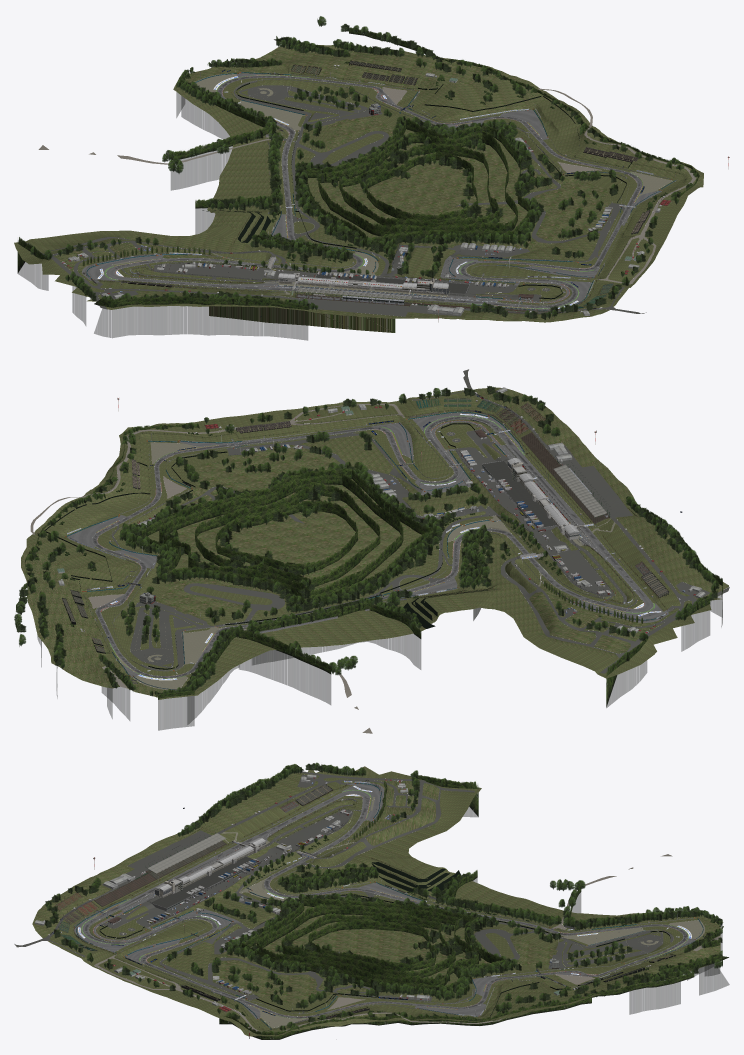
Rendered from autodromo.glb.
3 renders of one model, top to bottom at view 1: azimuth 30°, elevation 25°; view 2: azimuth 150°, elevation 25°; view 3: azimuth 270°, elevation 25°, orthographic. The views are drawn at different scales.
Visible parts, largest first — view 1: Object_71, Object_89, Object_19, Object_88, Object_87, Object_46, Object_13, Object_84, Object_108, Object_32, Object_38, Object_55 (+6 smaller); view 2: Object_71, Object_89, Object_19, Object_88, Object_46, Object_87, Object_13, Object_108, Object_84, Object_96, Object_54, Object_32 (+6 smaller); view 3: Object_71, Object_89, Object_19, Object_88, Object_46, Object_13, Object_87, Object_108, Object_84, Object_36, Object_54, Object_99 (+7 smaller).
Boxes of the visible parts, <box> form: Object_71: <box>14,44,703,332</box>; Object_89: <box>17,16,699,340</box>; Object_19: <box>27,81,646,316</box>; Object_88: <box>82,73,661,309</box>; Object_87: <box>111,73,672,305</box>; Object_46: <box>67,64,672,315</box>; Object_13: <box>86,72,677,310</box>; Object_84: <box>38,87,695,284</box>; Object_108: <box>202,83,632,299</box>; Object_32: <box>86,72,675,310</box>; Object_38: <box>85,76,653,308</box>; Object_55: <box>278,273,449,295</box>; Object_71: <box>21,387,728,699</box>; Object_89: <box>14,386,722,730</box>; Object_19: <box>111,369,729,673</box>; Object_88: <box>67,412,669,678</box>; Object_46: <box>58,387,705,632</box>; Object_87: <box>101,429,626,690</box>; Object_13: <box>70,411,662,690</box>; Object_108: <box>44,423,490,669</box>; Object_84: <box>30,403,404,733</box>; Object_96: <box>415,398,649,574</box>; Object_54: <box>482,461,556,528</box>; Object_32: <box>67,411,662,689</box>; Object_71: <box>32,766,723,1036</box>; Object_89: <box>45,762,729,1039</box>; Object_19: <box>14,771,673,1005</box>; Object_88: <box>74,782,696,1019</box>; Object_46: <box>34,774,651,1012</box>; Object_13: <box>75,783,703,1029</box>; Object_87: <box>106,797,704,1028</box>; Object_108: <box>99,862,670,1019</box>; Object_84: <box>94,854,720,1032</box>; Object_36: <box>94,828,226,906</box>; Object_54: <box>151,856,257,908</box>; Object_99: <box>94,841,226,906</box>.
Bounding box in the file's own units: 1348 × 151 × 1443.
94 materials, 94 textured.
